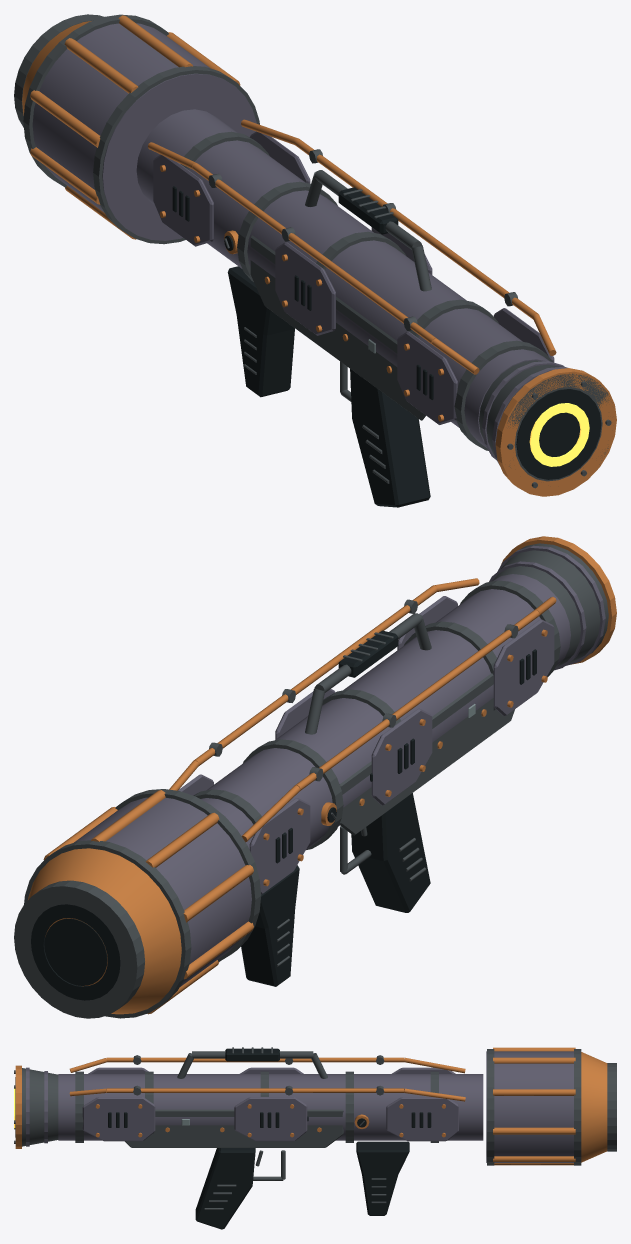
Rendered from heavy_0.glb.
3 renders of one model, top to bottom at view 1: azimuth 30°, elevation 25°; view 2: azimuth 150°, elevation 25°; view 3: azimuth 270°, elevation 25°, orthographic. The views are drawn at different scales.
Parts seen in each view (by area): view 1: Weapon_heavy_v1; view 2: Weapon_heavy_v1; view 3: Weapon_heavy_v1.
Part boxes in pixels (<box>): Weapon_heavy_v1: <box>14,14,616,507</box>; Weapon_heavy_v1: <box>14,536,616,1018</box>; Weapon_heavy_v1: <box>14,1047,616,1229</box>.
Bounding box in the file's own units: 0.195 × 0.318 × 0.993.
